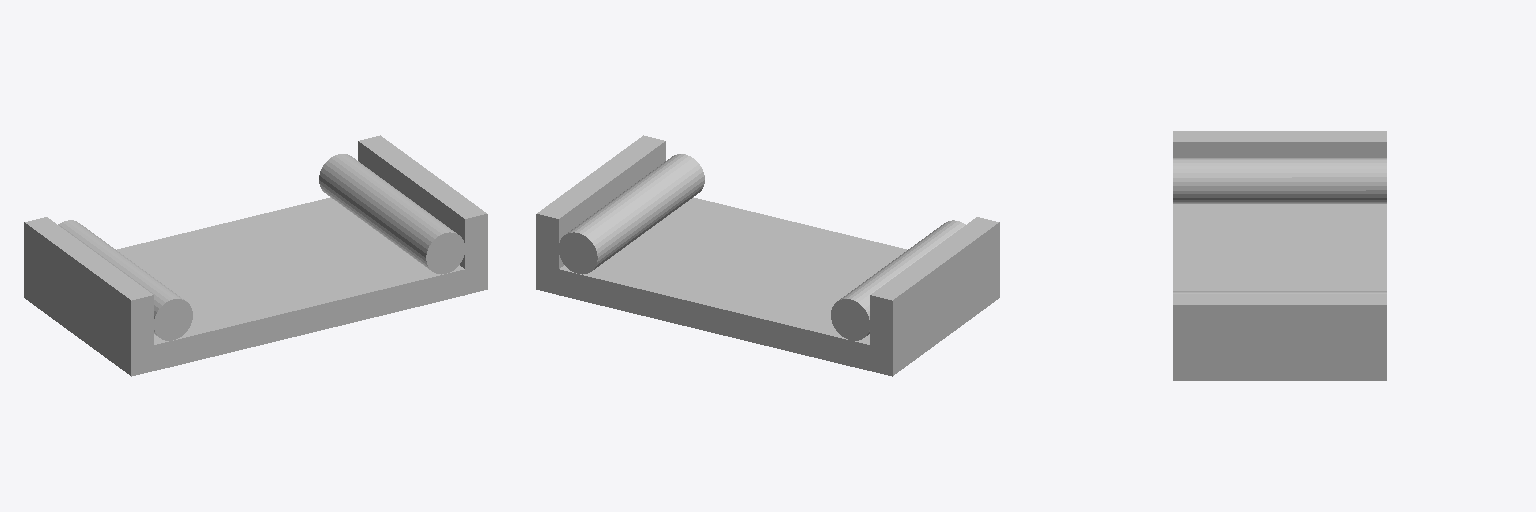
Rendered from base_puff_final.obj.
3 renders of one model, left to right at view 1: azimuth 30°, elevation 25°; view 2: azimuth 150°, elevation 25°; view 3: azimuth 270°, elevation 25°, orthographic.
Visible parts, largest first — view 1: puff_Cube.010; view 2: puff_Cube.010; view 3: puff_Cube.010.
Boxes of the visible parts, <box> form: puff_Cube.010: <box>24,135,487,376</box>; puff_Cube.010: <box>536,135,999,376</box>; puff_Cube.010: <box>1173,131,1386,380</box>.
Bounding box in the file's own units: 3.34 × 0.6803 × 1.74.